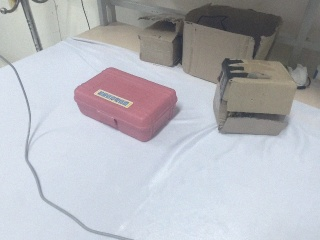box: (71, 64, 179, 148), (182, 4, 281, 83), (214, 59, 296, 135), (137, 18, 183, 67)
